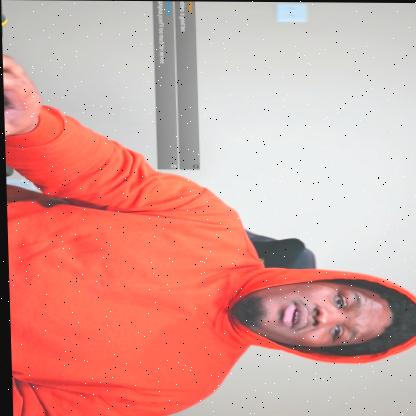streamer: (1, 53, 416, 416)
